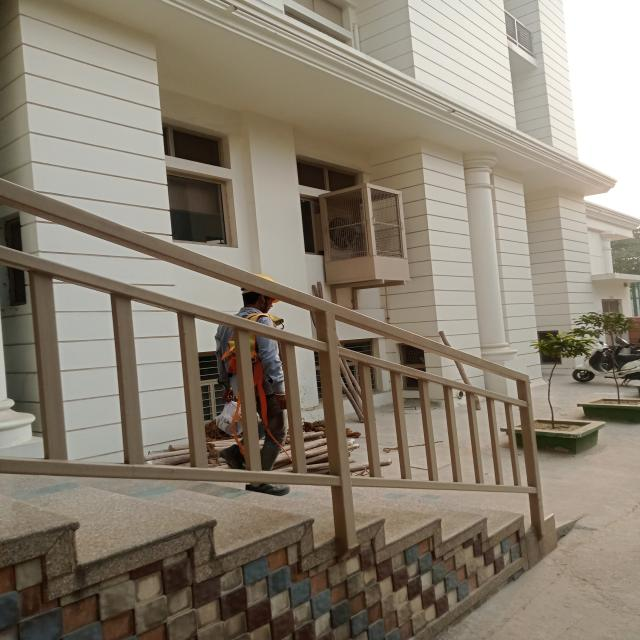no jacket: (215, 273, 296, 495)
